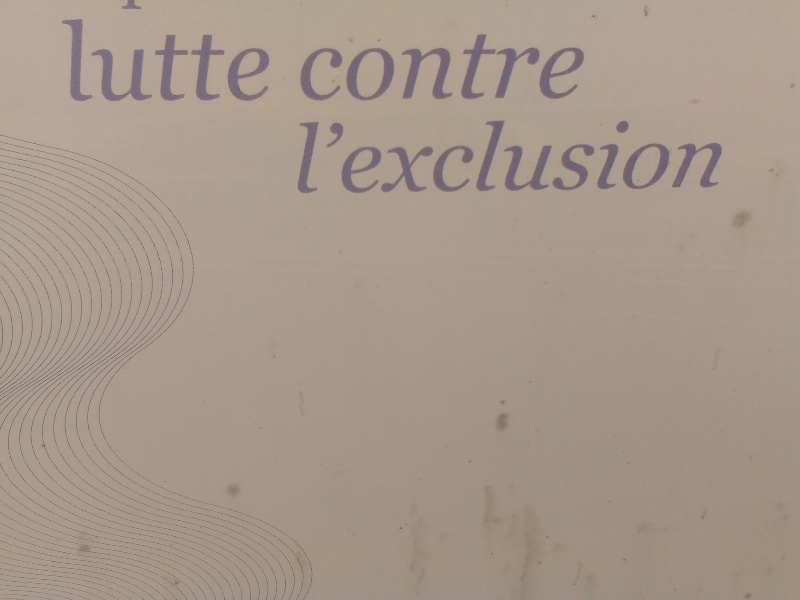text: (65, 18, 80, 104), (81, 18, 96, 104), (97, 18, 112, 104), (113, 18, 128, 104), (129, 18, 144, 104), (145, 18, 160, 104), (161, 18, 176, 104), (177, 18, 192, 104), (193, 18, 208, 104), (209, 18, 224, 104), (225, 18, 240, 104), (241, 18, 256, 104), (257, 18, 271, 104), (305, 118, 320, 194), (321, 118, 336, 194), (337, 118, 352, 194), (353, 118, 368, 194), (369, 118, 384, 194), (385, 118, 400, 194), (401, 118, 416, 194), (417, 118, 432, 194), (433, 118, 448, 194), (449, 118, 464, 194), (465, 118, 480, 194), (481, 118, 496, 194), (497, 118, 512, 194), (513, 118, 528, 194), (529, 118, 544, 194), (545, 118, 560, 194), (561, 118, 576, 194), (577, 118, 592, 194), (593, 118, 608, 194), (609, 118, 624, 194), (625, 118, 640, 194), (641, 118, 656, 194), (657, 118, 672, 194), (673, 118, 688, 194), (689, 118, 704, 194), (705, 118, 720, 194), (305, 32, 320, 103), (321, 32, 336, 103), (337, 32, 352, 103), (353, 32, 368, 103), (369, 32, 384, 103), (385, 32, 400, 103), (401, 32, 416, 103), (417, 32, 432, 103), (433, 32, 448, 103), (449, 32, 464, 103), (465, 32, 480, 103), (481, 32, 496, 103), (497, 32, 512, 103), (513, 32, 528, 103), (529, 32, 544, 103), (545, 32, 560, 103), (561, 32, 576, 103), (577, 32, 588, 103), (295, 118, 304, 194), (60, 18, 64, 104), (721, 118, 725, 194), (302, 32, 304, 103)
